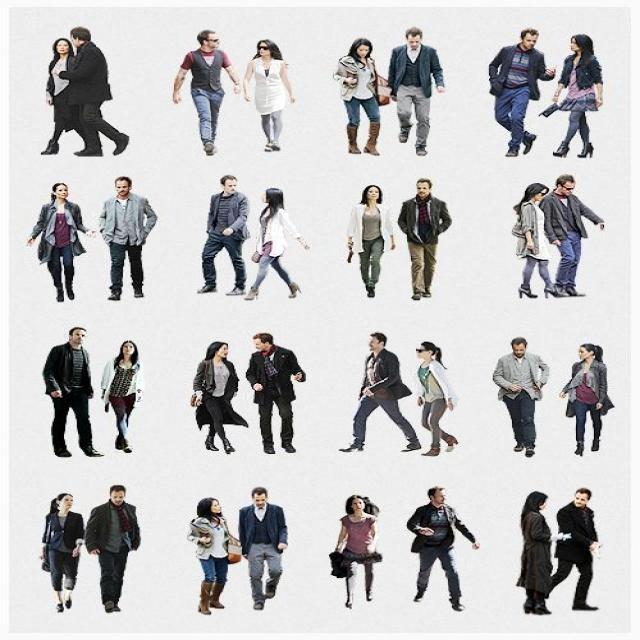person: (338, 331, 421, 452), (54, 26, 130, 156), (406, 486, 478, 610), (488, 27, 556, 156), (172, 29, 240, 154), (26, 182, 94, 301), (42, 327, 104, 457), (538, 174, 604, 296), (386, 26, 446, 156), (243, 187, 310, 300), (244, 332, 306, 454), (83, 484, 141, 612), (97, 177, 156, 300), (544, 488, 602, 610), (492, 337, 550, 457), (510, 182, 568, 298), (397, 178, 452, 300), (516, 490, 570, 614), (549, 34, 603, 158), (196, 174, 250, 296), (190, 341, 248, 453), (187, 498, 241, 614), (238, 486, 288, 610), (242, 38, 296, 152), (558, 343, 611, 456), (331, 494, 382, 608), (346, 184, 396, 297), (333, 38, 381, 154), (40, 38, 88, 154), (40, 493, 84, 612), (415, 341, 458, 456), (100, 340, 143, 453)
